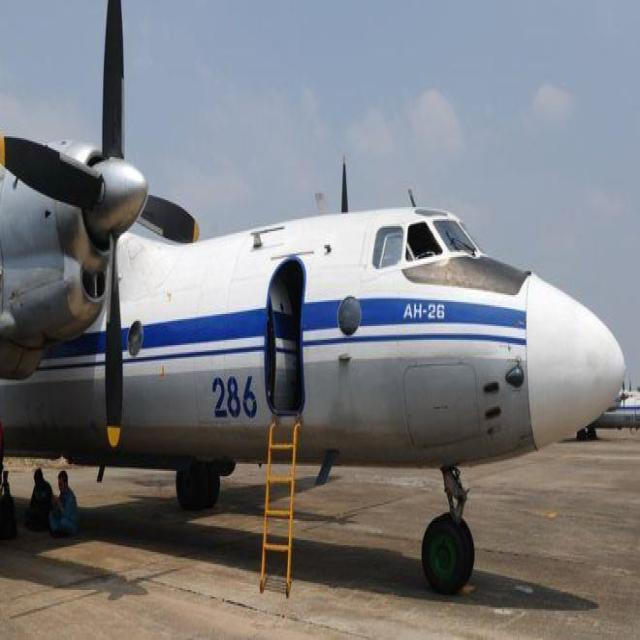Tanks: (16, 54, 566, 522)
